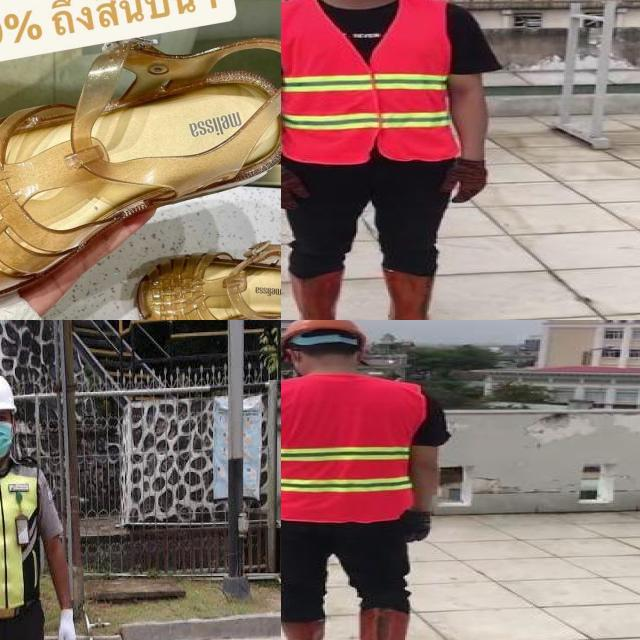Sandals: (0, 8, 281, 320), (123, 221, 281, 320)
boots: (382, 269, 455, 320), (285, 274, 342, 320), (358, 607, 412, 640), (281, 618, 332, 640)
hand_glove: (445, 160, 491, 203), (281, 166, 310, 211), (405, 511, 432, 544)
head_helmet: (281, 320, 371, 351), (0, 363, 25, 419)
person: (281, 0, 519, 320), (281, 320, 452, 640), (0, 355, 108, 640)
vest: (281, 0, 455, 161), (281, 376, 424, 519), (0, 456, 51, 613)
